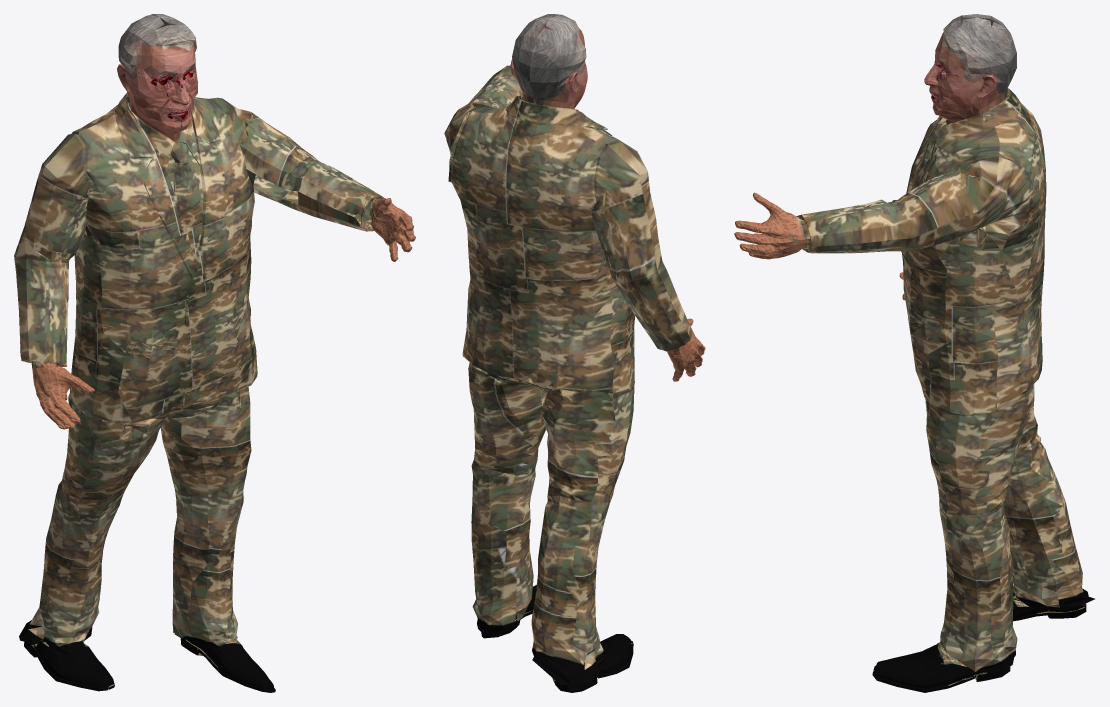
The model's file is zombie_000036.obj.
3 views of the same model, side by side, from view 1: azimuth 30°, elevation 25°; view 2: azimuth 150°, elevation 25°; view 3: azimuth 270°, elevation 25° (orthographic). The views are drawn at different scales.
Parts seen in each view (by area): view 1: Suit_coat_orig_9___De, objGeo_Hea_orig_9___D; view 2: Suit_coat_orig_9___De, objGeo_Hea_orig_9___D; view 3: Suit_coat_orig_9___De, objGeo_Hea_orig_9___D.
Part boxes in pixels (x1,y1,x2,y2): Suit_coat_orig_9___De: (14, 92, 415, 692); objGeo_Hea_orig_9___D: (117, 14, 197, 141); Suit_coat_orig_9___De: (444, 65, 705, 692); objGeo_Hea_orig_9___D: (510, 14, 587, 108); Suit_coat_orig_9___De: (734, 88, 1094, 692); objGeo_Hea_orig_9___D: (924, 14, 1016, 124).
Size of the model in its own units: 0.8671 by 1.9 by 0.9726.
